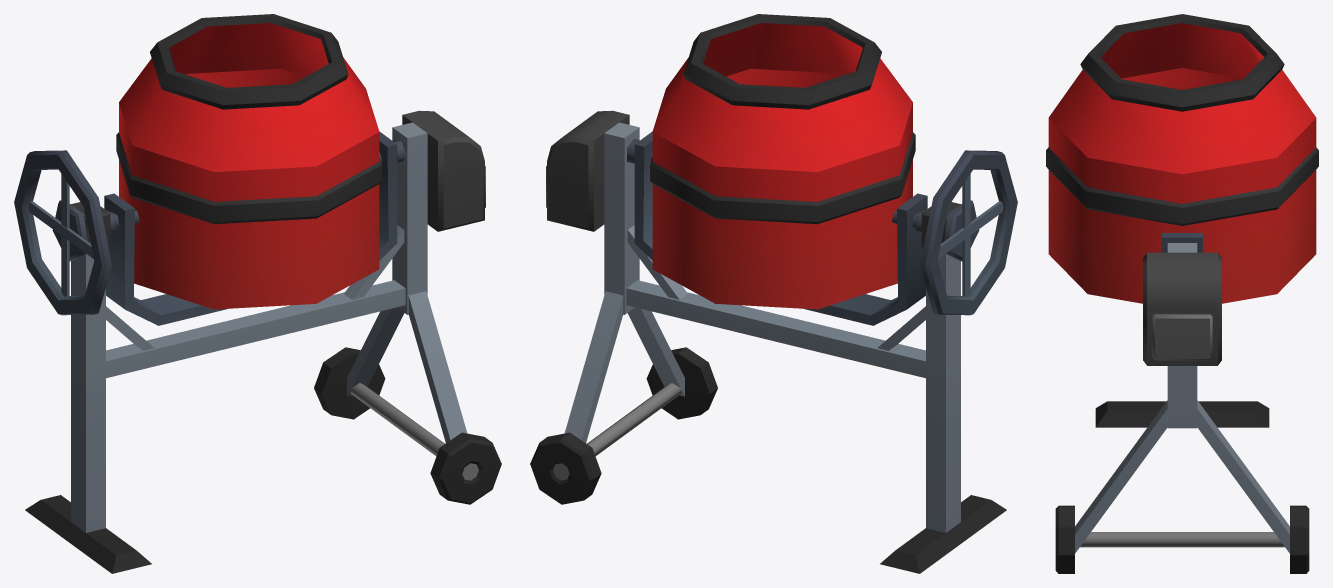
File: CementMixer_C.fbx
3 views of the same model, side by side, from view 1: azimuth 30°, elevation 25°; view 2: azimuth 150°, elevation 25°; view 3: azimuth 270°, elevation 25° (orthographic).
Parts seen in each view (by area): view 1: Top3, CementMixer; view 2: Top3, CementMixer; view 3: Top3, CementMixer.
Boxes of the visible parts, x1=… form: Top3: x1=14, y1=14, x2=406, y2=325; CementMixer: x1=25, y1=110, x2=501, y2=573; Top3: x1=627, y1=14, x2=1017, y2=325; CementMixer: x1=530, y1=110, x2=1006, y2=573; Top3: x1=1046, y1=14, x2=1318, y2=303; CementMixer: x1=1055, y1=243, x2=1309, y2=573.
Bounding box in the file's own units: 1.33 × 1.37 × 0.7673.
